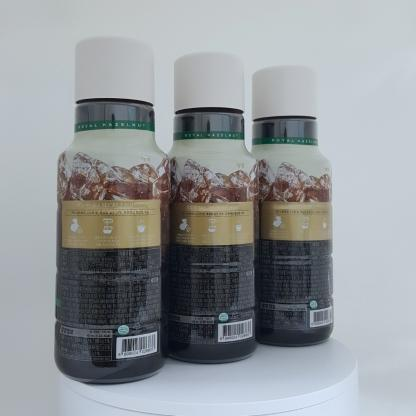--------1-1L: (53, 37, 170, 385), (227, 65, 334, 347), (157, 51, 253, 364)
